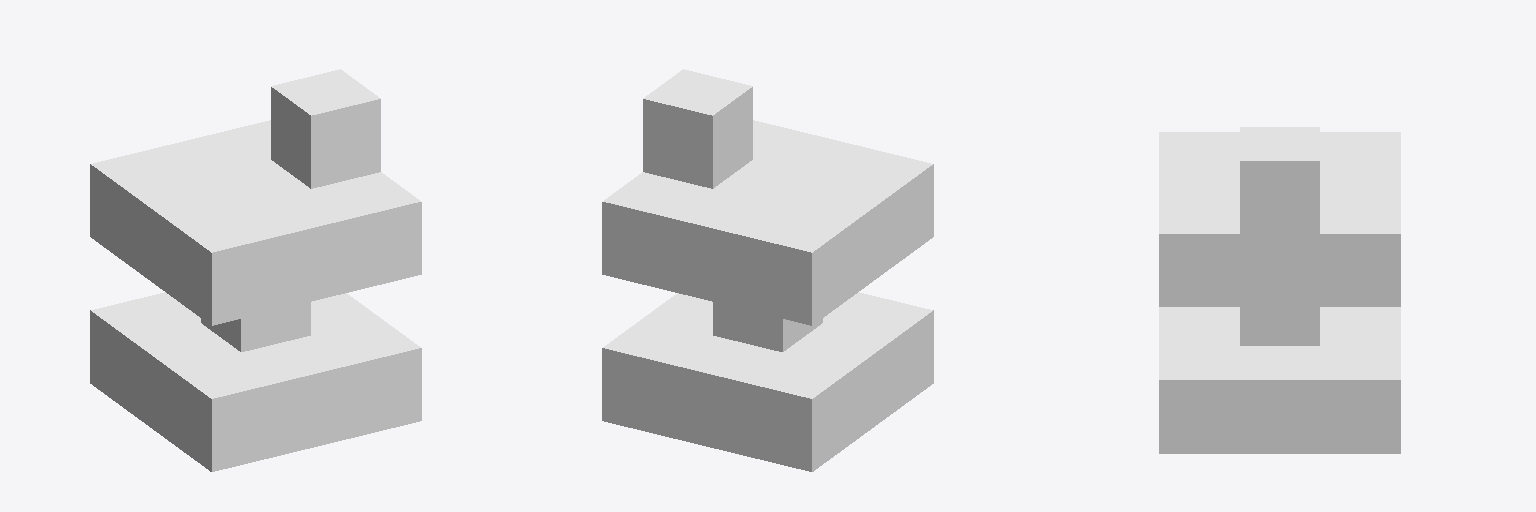
File: Fountain.vox.obj
3 views of the same model, side by side, from view 1: azimuth 30°, elevation 25°; view 2: azimuth 150°, elevation 25°; view 3: azimuth 270°, elevation 25° (orthographic).
Visible parts, largest first — view 1: object 1; view 2: object 1; view 3: object 1.
Part boxes in pixels (bbox=[...]): object 1: bbox=[90, 69, 421, 471]; object 1: bbox=[602, 69, 933, 471]; object 1: bbox=[1159, 127, 1400, 453].
Size of the model in its own units: 0.3 by 0.4 by 0.3.